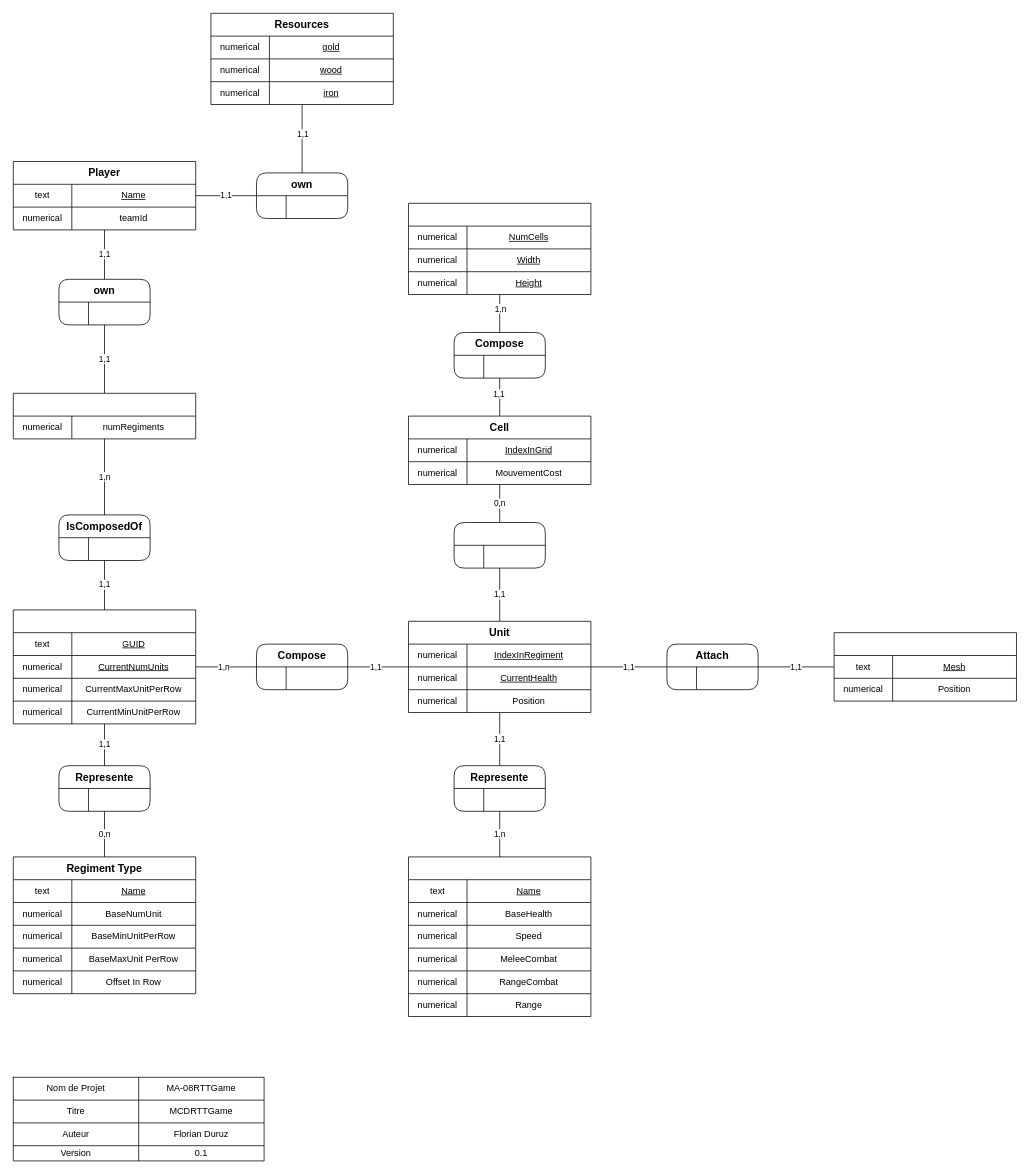
The diagram is 1030 pixels wide and 1174 high, and some of its shapes have lost their labels. The box of each missing label's shape, as (x1, y1, x2, y2) in pixels:
Army Composition: (13, 393, 196, 439)
Contain: (453, 522, 545, 568)
Placement Token: (833, 632, 1016, 701)
Regiment: (13, 609, 196, 724)
Spatial Grid: (408, 203, 591, 294)
Unit Type: (408, 856, 591, 1016)
